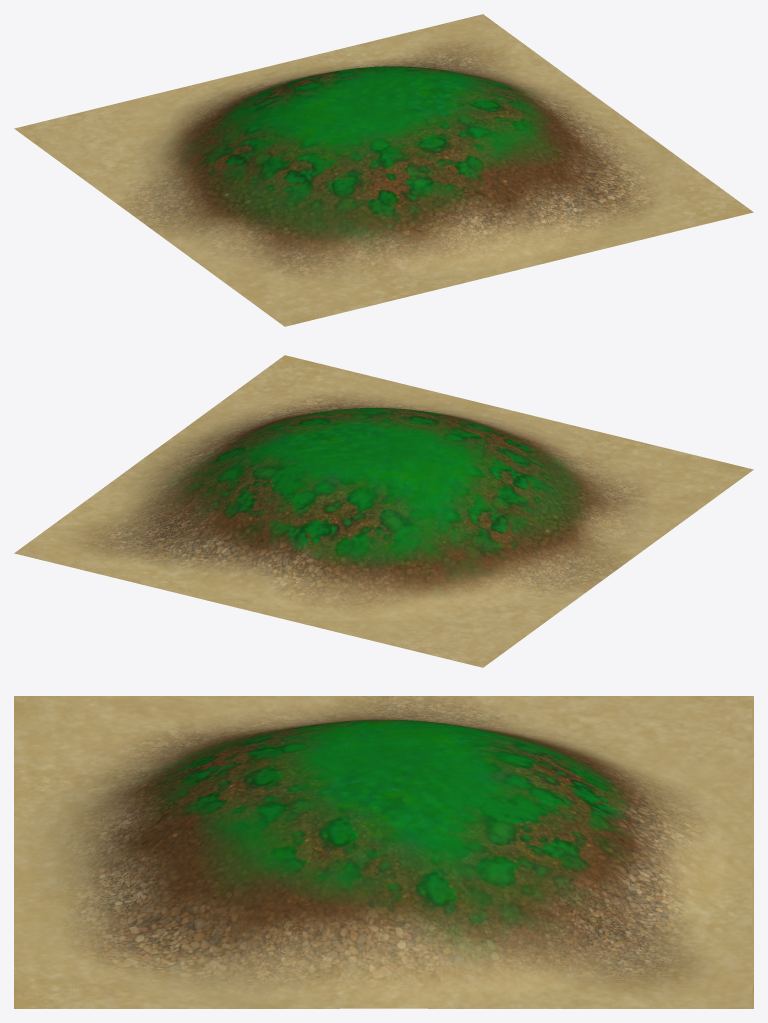
3 renders of one model, top to bottom at view 1: azimuth 30°, elevation 25°; view 2: azimuth 150°, elevation 25°; view 3: azimuth 270°, elevation 25°, orthographic. The views are drawn at different scales.
Visible parts, largest first — view 1: Test_Mesh; view 2: Test_Mesh; view 3: Test_Mesh.
Part boxes in pixels (x1,y1,x2,y2): Test_Mesh: (14, 14, 753, 326); Test_Mesh: (14, 355, 753, 667); Test_Mesh: (14, 696, 753, 1008).
Size of the model in its own units: 25 by 3.3 by 25.
1 material, 1 textured.
